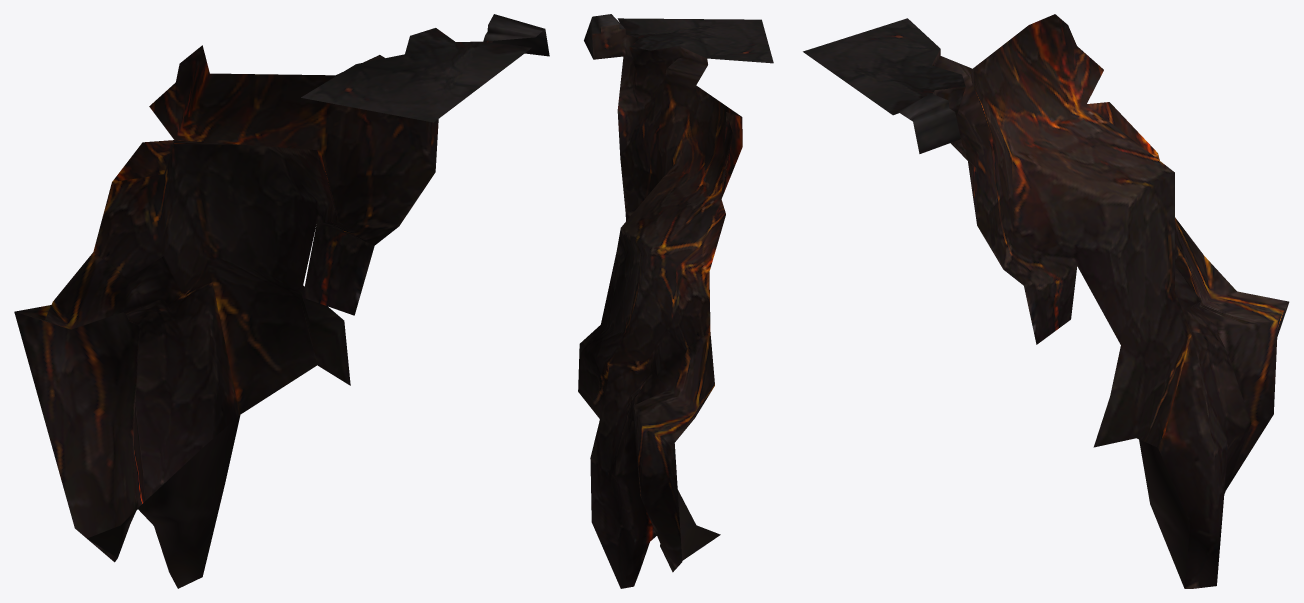
The model's file is S2_Build_XSC106_L1.FBX.
3 renders of one model, left to right at view 1: azimuth 30°, elevation 25°; view 2: azimuth 150°, elevation 25°; view 3: azimuth 270°, elevation 25°, orthographic. The views are drawn at different scales.
Parts seen in each view (by area): view 1: S2_Build_XSC106_L1; view 2: S2_Build_XSC106_L1; view 3: S2_Build_XSC106_L1.
Boxes of the visible parts, x1=… form: S2_Build_XSC106_L1: x1=14, y1=14, x2=549, y2=588; S2_Build_XSC106_L1: x1=578, y1=14, x2=773, y2=588; S2_Build_XSC106_L1: x1=803, y1=14, x2=1289, y2=588.
Size of the model in its own units: 1607 by 2851 by 2215.
